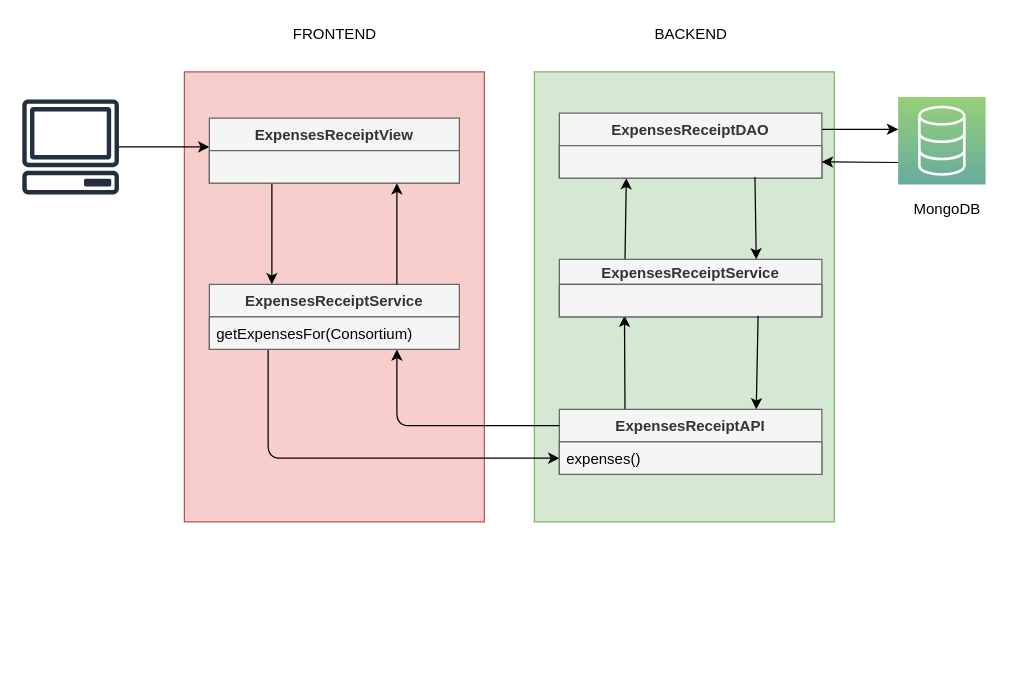
This 1011x693 diagram has some shape labels left out. The shapes that lost their labels are listed below. From the top down, each one's centre as x and y in pixels, then its label:
pixel 333 166: componentDidUpdate()
pixel 690 161: gat_all(query_obj)
pixel 690 300: get_expenses_for(consortium_name)
